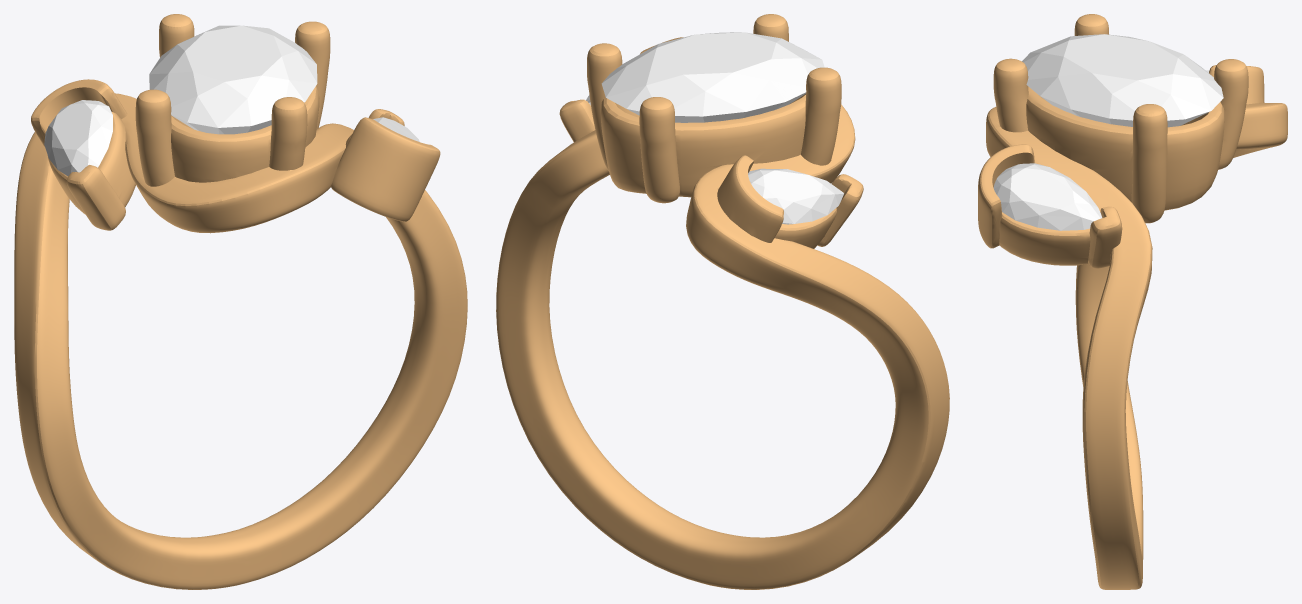
The picture shows the model from 3 angles, left to right: view 1: azimuth 30°, elevation 25°; view 2: azimuth 150°, elevation 25°; view 3: azimuth 270°, elevation 25°; orthographic projection. The views are drawn at different scales.
Visible parts, largest first — view 1: object 4, PART0001 (×2); view 2: object 4, PART0001 (×2); view 3: object 4, PART0001 (×2).
Boxes of the visible parts, x1,y1,x2,y2 form: object 4: (14,14,467,589); PART0001 (×2): (44,25,317,176); object 4: (496,14,949,589); PART0001 (×2): (601,32,843,224); object 4: (978,14,1287,589); PART0001 (×2): (993,34,1223,230).
Size of the model in its own units: 2.42 by 2.79 by 1.54.
